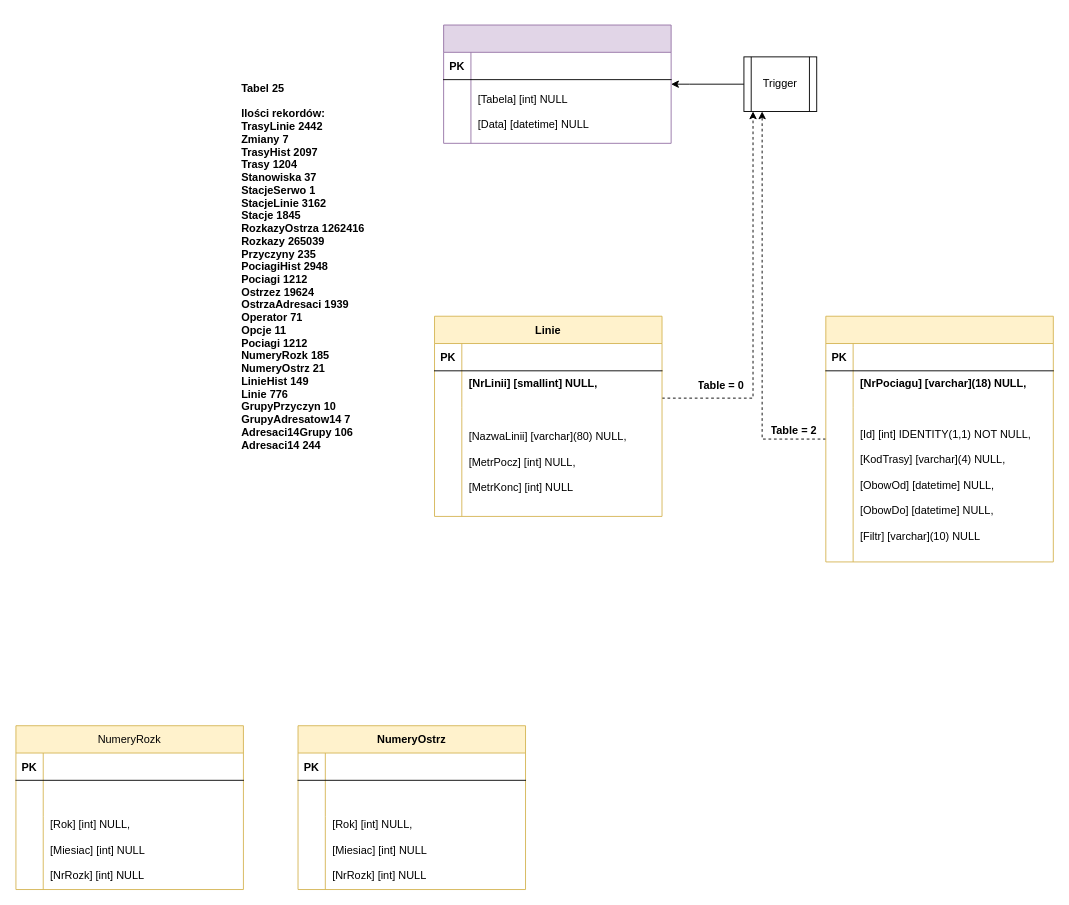
Image size: 1069x905. Some labels were removed from this diagram. The shapes that lost their labels are listed below. From the top down, each one's box as (x1, y1, x2, y2) in pixels, then its label:
(443, 24, 671, 143): Zmiany
(825, 315, 1053, 562): Pociągi
